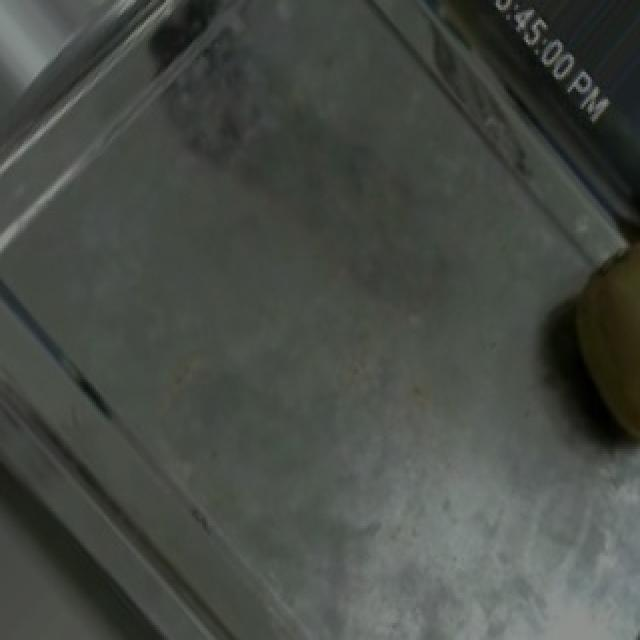Fruit: (524, 203, 640, 474)
